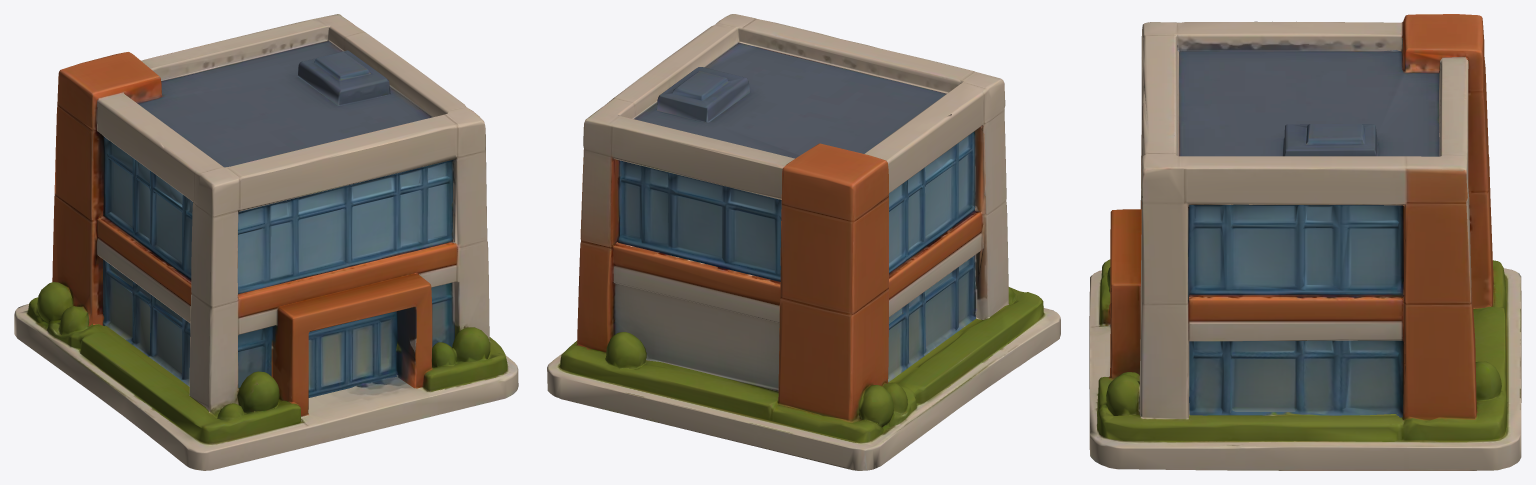
The model's file is now-office.glb.
3 renders of one model, left to right at view 1: azimuth 30°, elevation 25°; view 2: azimuth 150°, elevation 25°; view 3: azimuth 270°, elevation 25°, orthographic. The views are drawn at different scales.
Parts seen in each view (by area): view 1: textured_mesh.obj; view 2: textured_mesh.obj; view 3: textured_mesh.obj.
Boxes of the visible parts, <box> form: textured_mesh.obj: <box>14,14,518,470</box>; textured_mesh.obj: <box>547,14,1060,470</box>; textured_mesh.obj: <box>1089,14,1521,470</box>.
Size of the model in its own units: 1.3 by 0.9992 by 1.3.
1 material, 1 textured.
